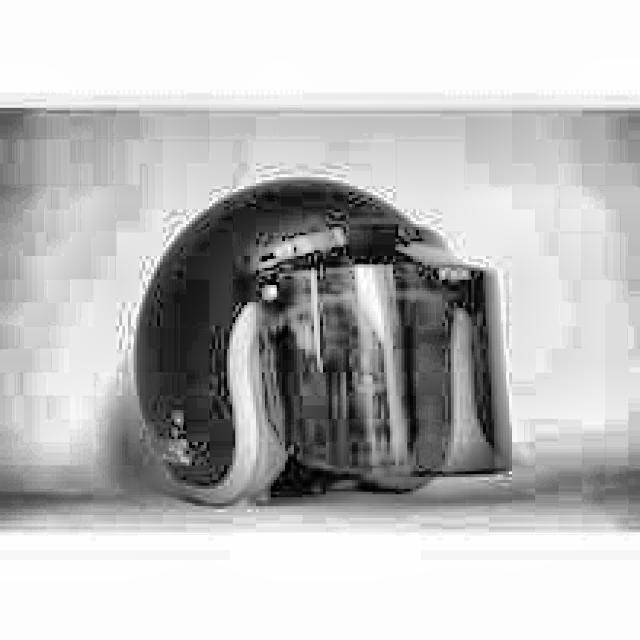Helmet: (122, 175, 524, 544)
